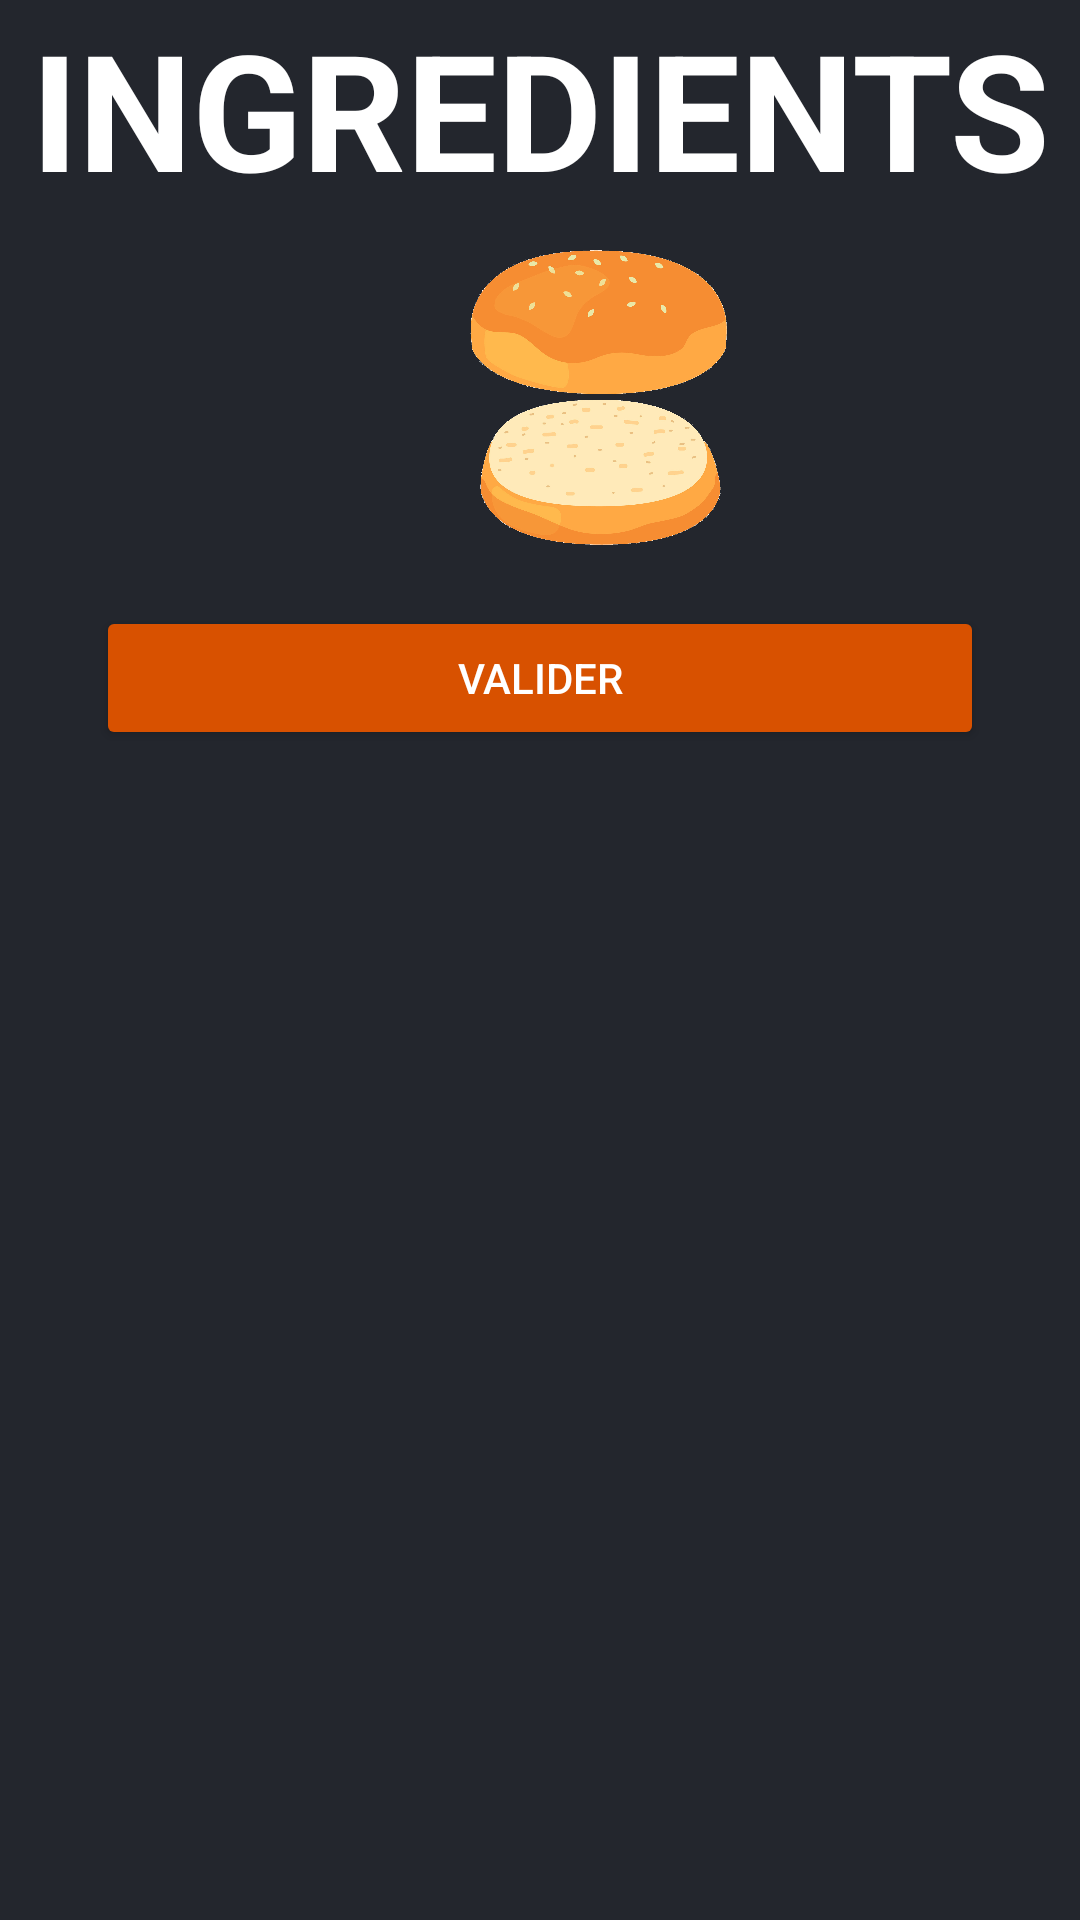

Where icons sit on this 1080 x 1920 app screen, as (x1, y1, x2, y2):
pain bas: (480, 400, 721, 545)
pain haut: (470, 250, 727, 394)
